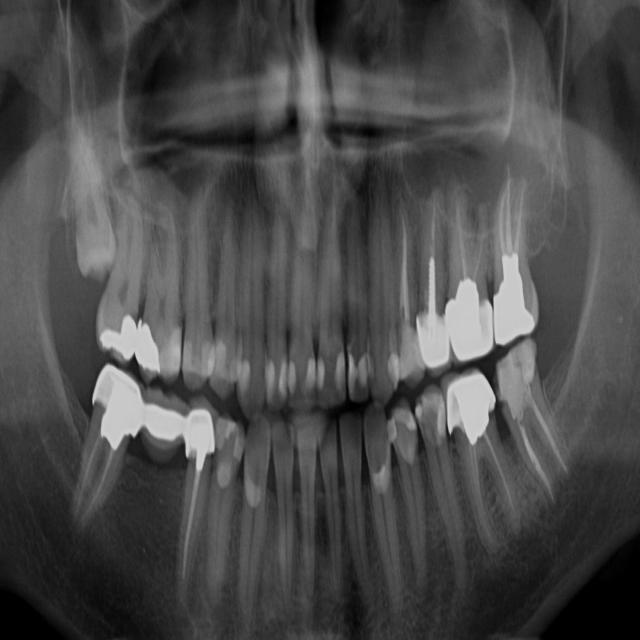dolgu: (495, 341, 541, 408), (99, 314, 138, 358), (135, 323, 164, 374), (427, 389, 448, 444), (164, 328, 185, 376), (217, 413, 239, 457), (206, 335, 225, 380), (390, 405, 413, 440), (246, 466, 263, 512), (370, 459, 391, 493), (234, 353, 250, 397), (275, 358, 289, 399), (335, 348, 347, 394), (304, 352, 317, 392), (312, 352, 326, 388), (345, 351, 357, 393), (358, 351, 371, 389), (265, 356, 276, 399), (287, 359, 300, 393), (386, 351, 398, 384)
kanal-tedavisi: (57, 403, 122, 548), (508, 404, 580, 514), (463, 434, 524, 550), (441, 192, 486, 297), (180, 454, 208, 616), (492, 179, 534, 269), (393, 209, 413, 328), (423, 205, 441, 326)
kaplama: (439, 289, 494, 360), (486, 272, 538, 342), (442, 371, 496, 435), (95, 366, 143, 436), (413, 312, 451, 366), (184, 408, 215, 457)
kopru: (136, 390, 188, 478)
